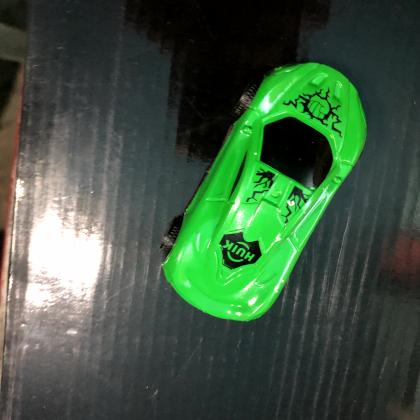Car: (159, 59, 369, 322)
